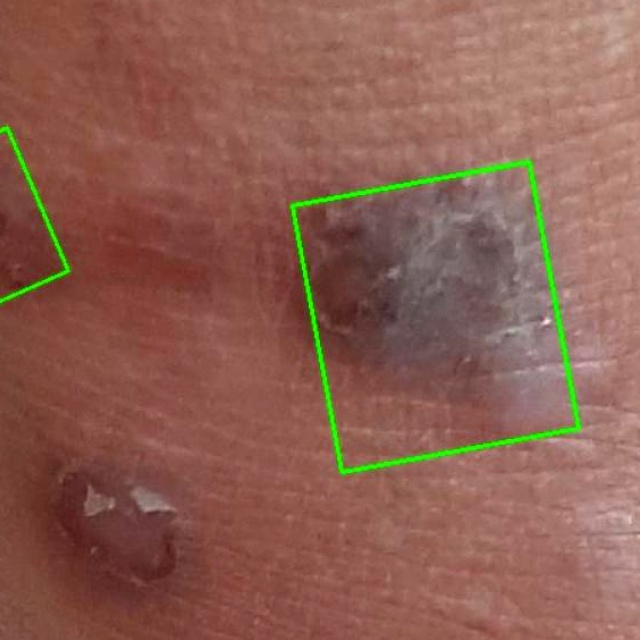Contact Dermatitis: (292, 163, 578, 473)
